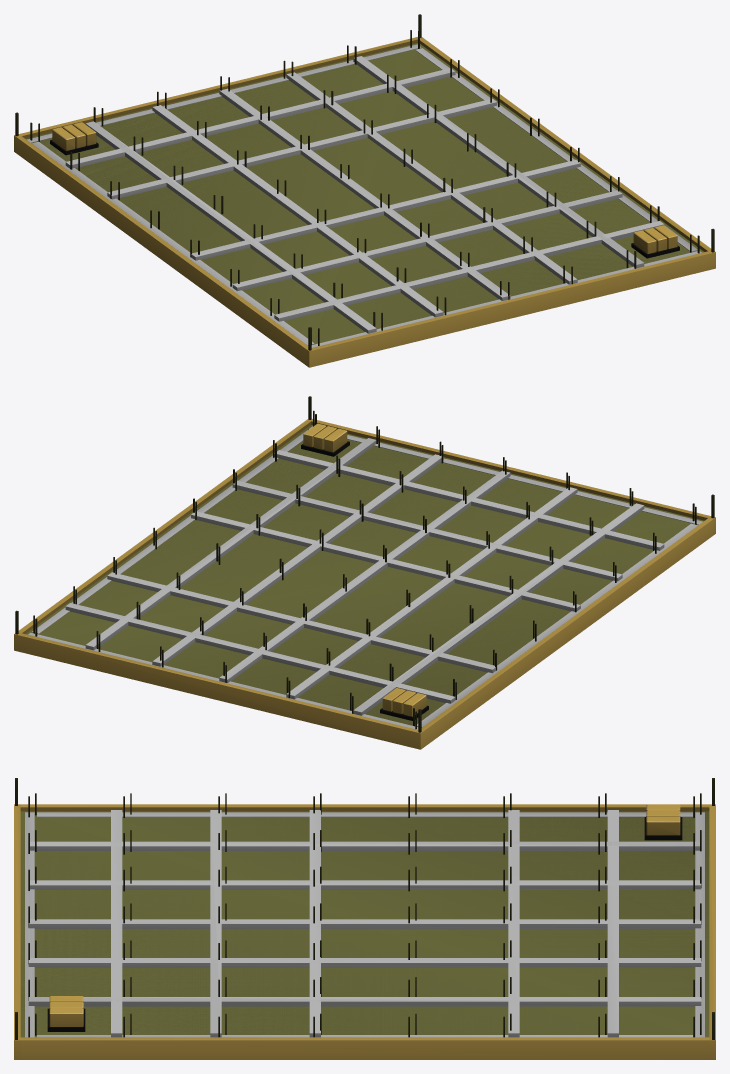
File: meridian_shipyard_foundation.glb
3 renders of one model, top to bottom at view 1: azimuth 30°, elevation 25°; view 2: azimuth 150°, elevation 25°; view 3: azimuth 270°, elevation 25°, orthographic. The views are drawn at different scales.
Parts seen in each view (by area): view 1: body (×3); view 2: body (×3); view 3: body (×3).
Boxes of the visible parts, bbox=[...] form: body (×3): bbox=[14, 14, 715, 367]; body (×3): bbox=[14, 396, 715, 749]; body (×3): bbox=[14, 778, 715, 1059].
Size of the model in its own units: 14.78 by 1.35 by 18.58.
